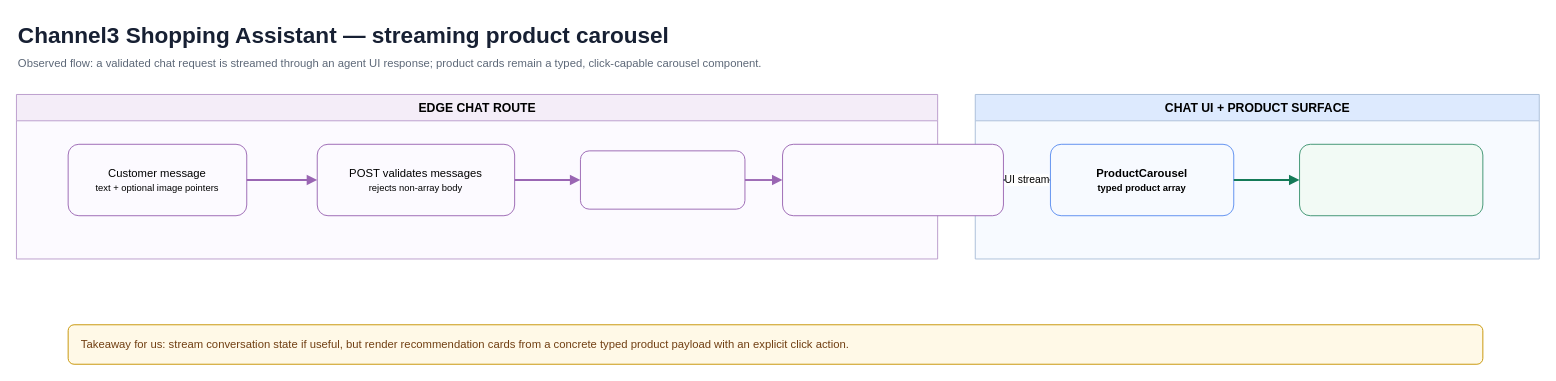
This 1556x381 diagram has some shape labels left out. The shapes that lost their labels are listed below. From the top down, each one's centre as x and y in pixels, then its label:
At [662,179]: "augment image pointers".
At [892,179]: "createAgentUIStreamResponse chatAgent + augmented messages".
At [1391,179]: "ProductCard + onProductClick direct interactive handoff".
